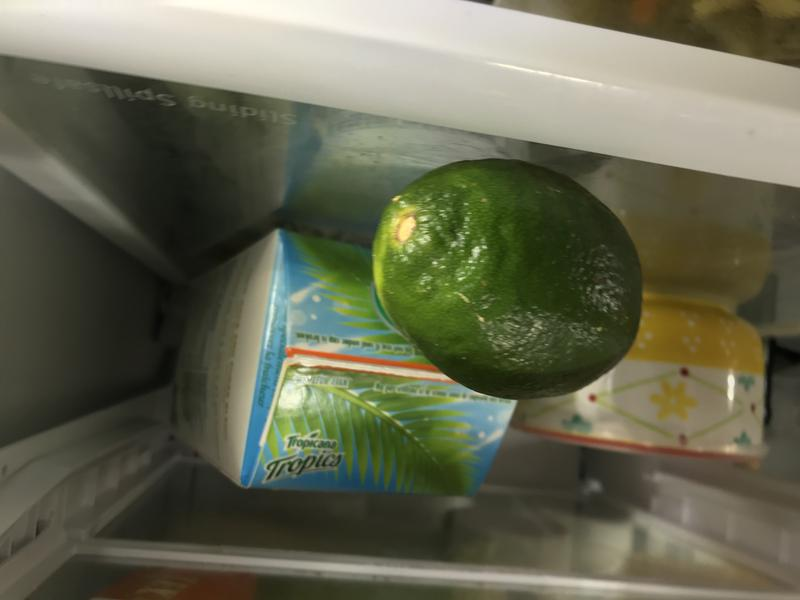lime: (362, 148, 651, 400)
